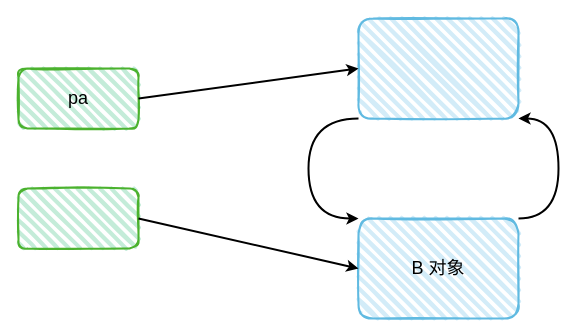
Some shapes in this 576 by 336 pixel diagram are drawn without their labels. The centre of each missing label's shape, as x and y in pixels:
"A 对象" belongs at (x=438, y=68).
"pb" belongs at (x=78, y=218).
